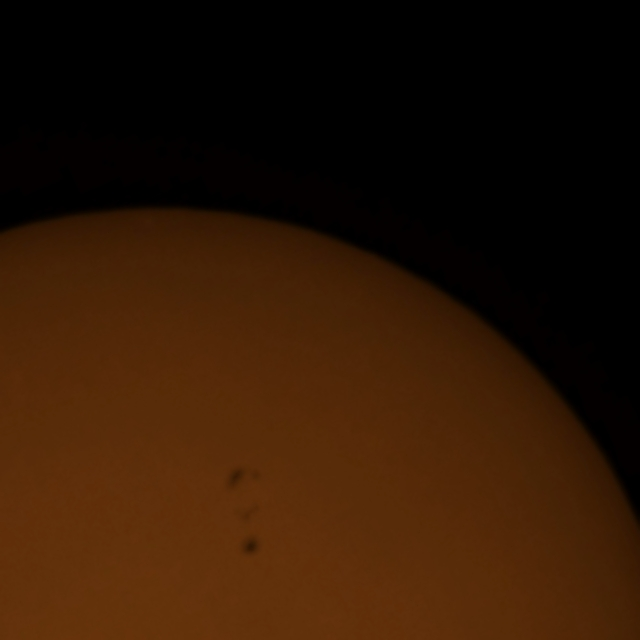sunspot: (224, 465, 263, 495), (240, 534, 261, 559)
